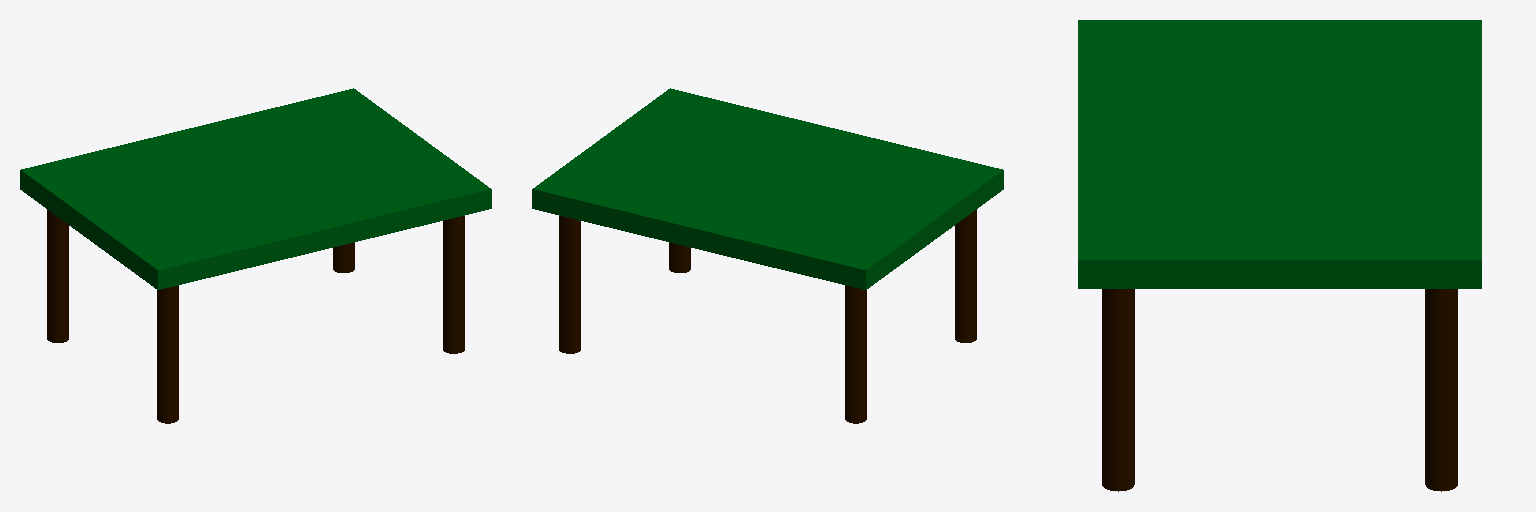
The robot description file, URDF, robot "snooker_table":
<?xml version="1.0"?>
<!--
  Snooker Table URDF for climbing task retargeting (visualization).
  
  Using box + cylinder primitives instead of mesh to match MuJoCo configuration.
  
  SCALED for 1.78m human body (will be auto-scaled to G1 1.32m by retargeting).
  Scale factor: 1.78 / 1.32 = 1.348
  
  Scaled (for human 1.78m, used here):
  - Table center pos: (0, -2.562, 0.836)
  - Table size (full): 1.888m x 1.348m x 0.108m
  - Leg positions (relative): (±0.809, ±0.539, -0.445)
  - Leg size: radius=0.054m, height=0.782m
-->
<robot name="snooker_table">
  <!-- Root world link -->
  <link name="world"/>
  
  <!-- Table top link -->
  <link name="table_top">
    <visual>
      <!-- World position: (0, -2.562, 0.836) -->
      <origin xyz="0 -2.562 0.836" rpy="0 0 0"/>
      <geometry>
        <!-- URDF box uses full size, not half size -->
        <box size="1.888 1.348 0.108"/>
      </geometry>
      <material name="table_material">
        <color rgba="0 0.4 0.1 1"/>
      </material>
    </visual>
    <collision name="table_top_collision">
      <origin xyz="0 -2.562 0.836" rpy="0 0 0"/>
      <geometry>
        <box size="1.888 1.348 0.108"/>
      </geometry>
    </collision>
    <inertial>
      <origin xyz="0 -2.562 0.836" rpy="0 0 0"/>
      <mass value="80.0"/>
      <inertia ixx="10.0" ixy="0.0" ixz="0.0" iyy="10.0" iyz="0.0" izz="10.0"/>
    </inertial>
  </link>
  
  <!-- Connect table_top to world - Joint at origin -->
  <joint name="world_to_table_top" type="fixed">
    <parent link="world"/>
    <child link="table_top"/>
    <origin xyz="0 0 0" rpy="0 0 0"/>
  </joint>
  
  <!-- Leg 1: Front-Right -->
  <link name="leg1">
    <visual>
      <!-- World pos: (0.809, -2.023, 0.391) -->
      <origin xyz="0.809 -2.023 0.391" rpy="0 0 0"/>
      <geometry>
        <cylinder radius="0.054" length="0.782"/>
      </geometry>
      <material name="leg_material">
        <color rgba="0.2 0.1 0 1"/>
      </material>
    </visual>
    <collision name="leg1_collision">
      <origin xyz="0.809 -2.023 0.391" rpy="0 0 0"/>
      <geometry>
        <cylinder radius="0.054" length="0.782"/>
      </geometry>
    </collision>
    <inertial>
      <origin xyz="0.809 -2.023 0.391" rpy="0 0 0"/>
      <mass value="5.0"/>
      <inertia ixx="1.0" ixy="0.0" ixz="0.0" iyy="1.0" iyz="0.0" izz="1.0"/>
    </inertial>
  </link>
  <joint name="world_to_leg1" type="fixed">
    <parent link="world"/>
    <child link="leg1"/>
    <origin xyz="0 0 0" rpy="0 0 0"/>
  </joint>
  
  <!-- Leg 2: Back-Right -->
  <link name="leg2">
    <visual>
      <!-- World pos: (0.809, -3.101, 0.391) -->
      <origin xyz="0.809 -3.101 0.391" rpy="0 0 0"/>
      <geometry>
        <cylinder radius="0.054" length="0.782"/>
      </geometry>
      <material name="leg_material">
        <color rgba="0.2 0.1 0 1"/>
      </material>
    </visual>
    <collision name="leg2_collision">
      <origin xyz="0.809 -3.101 0.391" rpy="0 0 0"/>
      <geometry>
        <cylinder radius="0.054" length="0.782"/>
      </geometry>
    </collision>
    <inertial>
      <origin xyz="0.809 -3.101 0.391" rpy="0 0 0"/>
      <mass value="5.0"/>
      <inertia ixx="1.0" ixy="0.0" ixz="0.0" iyy="1.0" iyz="0.0" izz="1.0"/>
    </inertial>
  </link>
  <joint name="world_to_leg2" type="fixed">
    <parent link="world"/>
    <child link="leg2"/>
    <origin xyz="0 0 0" rpy="0 0 0"/>
  </joint>
  
  <!-- Leg 3: Front-Left -->
  <link name="leg3">
    <visual>
      <!-- World pos: (-0.809, -2.023, 0.391) -->
      <origin xyz="-0.809 -2.023 0.391" rpy="0 0 0"/>
      <geometry>
        <cylinder radius="0.054" length="0.782"/>
      </geometry>
      <material name="leg_material">
        <color rgba="0.2 0.1 0 1"/>
      </material>
    </visual>
    <collision name="leg3_collision">
      <origin xyz="-0.809 -2.023 0.391" rpy="0 0 0"/>
      <geometry>
        <cylinder radius="0.054" length="0.782"/>
      </geometry>
    </collision>
    <inertial>
      <origin xyz="-0.809 -2.023 0.391" rpy="0 0 0"/>
      <mass value="5.0"/>
      <inertia ixx="1.0" ixy="0.0" ixz="0.0" iyy="1.0" iyz="0.0" izz="1.0"/>
    </inertial>
  </link>
  <joint name="world_to_leg3" type="fixed">
    <parent link="world"/>
    <child link="leg3"/>
    <origin xyz="0 0 0" rpy="0 0 0"/>
  </joint>
  
  <!-- Leg 4: Back-Left -->
  <link name="leg4">
    <visual>
      <!-- World pos: (-0.809, -3.101, 0.391) -->
      <origin xyz="-0.809 -3.101 0.391" rpy="0 0 0"/>
      <geometry>
        <cylinder radius="0.054" length="0.782"/>
      </geometry>
      <material name="leg_material">
        <color rgba="0.2 0.1 0 1"/>
      </material>
    </visual>
    <collision name="leg4_collision">
      <origin xyz="-0.809 -3.101 0.391" rpy="0 0 0"/>
      <geometry>
        <cylinder radius="0.054" length="0.782"/>
      </geometry>
    </collision>
    <inertial>
      <origin xyz="-0.809 -3.101 0.391" rpy="0 0 0"/>
      <mass value="5.0"/>
      <inertia ixx="1.0" ixy="0.0" ixz="0.0" iyy="1.0" iyz="0.0" izz="1.0"/>
    </inertial>
  </link>
  <joint name="world_to_leg4" type="fixed">
    <parent link="world"/>
    <child link="leg4"/>
    <origin xyz="0 0 0" rpy="0 0 0"/>
  </joint>

</robot>

--- What the picture shows (computed from the rendered views, not written in the file) ---
The picture shows the robot from 3 angles, left to right: view 1: azimuth 30°, elevation 25°; view 2: azimuth 150°, elevation 25°; view 3: azimuth 270°, elevation 25°; orthographic projection.
Robot: snooker_table — 6 links, 5 joints (5 fixed); root link world; default pose: every joint at zero.
Visible links, largest first — view 1: table_top, leg2, leg4, leg3, leg1; view 2: table_top, leg1, leg3, leg4, leg2; view 3: table_top, leg1, leg2.
Boxes of the visible links, x1,y1,x2,y2 form: table_top: (20, 88, 491, 289); leg2: (443, 216, 464, 353); leg4: (157, 285, 178, 423); leg3: (47, 209, 68, 342); leg1: (333, 242, 354, 272); table_top: (532, 88, 1003, 289); leg1: (559, 216, 580, 353); leg3: (845, 285, 866, 423); leg4: (955, 209, 976, 342); leg2: (669, 242, 690, 272); table_top: (1078, 20, 1481, 288); leg1: (1425, 289, 1457, 491); leg2: (1102, 289, 1134, 491).
Bounding box of the posed robot: 1.89 × 1.35 × 0.89 m (x, y, z).
Geometry: primitives only (box / cylinder / sphere), no mesh files.
